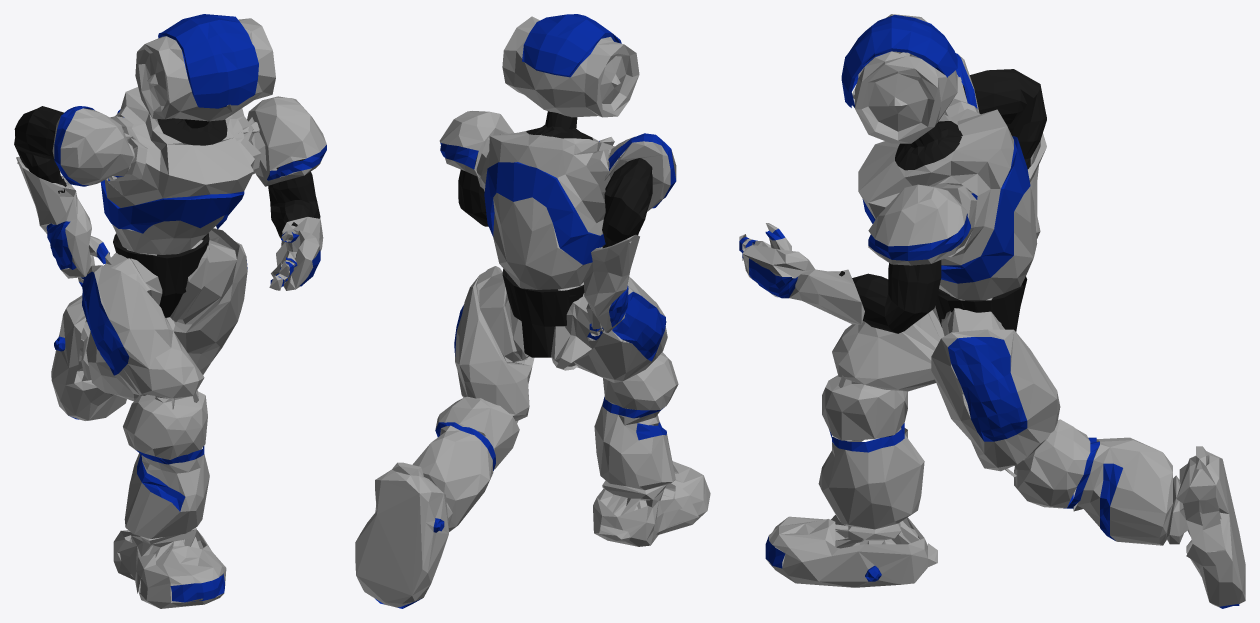
The model's file is run19.obj.
3 views of the same model, side by side, from view 1: azimuth 30°, elevation 25°; view 2: azimuth 150°, elevation 25°; view 3: azimuth 270°, elevation 25° (orthographic). The views are drawn at different scales.
Parts seen in each view (by area): view 1: Robot2.001_Robot2Mesh.000, Robot2_Robot2Mesh.004, Robot2.002_Robot2Mesh.001; view 2: Robot2.001_Robot2Mesh.000, Robot2_Robot2Mesh.004, Robot2.002_Robot2Mesh.001; view 3: Robot2.001_Robot2Mesh.000, Robot2_Robot2Mesh.004, Robot2.002_Robot2Mesh.001.
Boxes of the visible parts, x1,y1,x2,y2 form: Robot2.001_Robot2Mesh.000: (16,18,326,608); Robot2_Robot2Mesh.004: (46,14,326,602); Robot2.002_Robot2Mesh.001: (14,106,320,317); Robot2.001_Robot2Mesh.000: (355,16,710,607); Robot2_Robot2Mesh.004: (375,14,676,608); Robot2.002_Robot2Mesh.001: (458,111,652,357); Robot2.001_Robot2Mesh.000: (739,14,1245,607); Robot2_Robot2Mesh.004: (739,15,1239,608); Robot2.002_Robot2Mesh.001: (839,69,1046,333).
Bounding box in the file's own units: 0.97 × 1.94 × 1.53.
